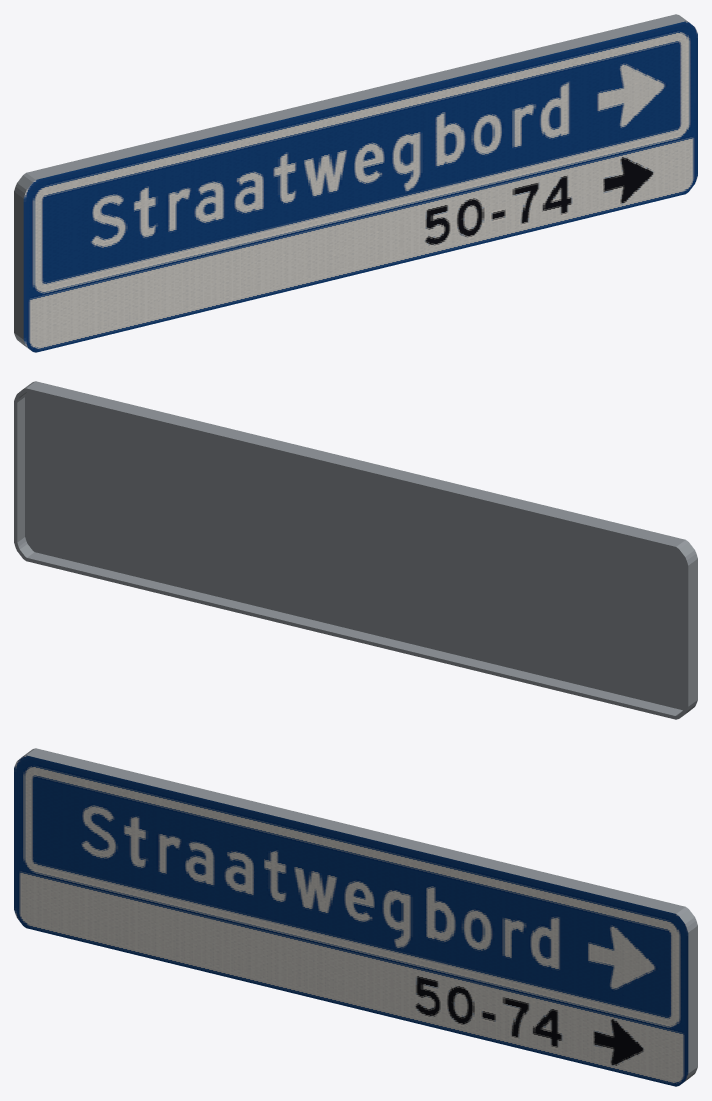
3 renders of one model, top to bottom at view 1: azimuth 30°, elevation 25°; view 2: azimuth 150°, elevation 25°; view 3: azimuth 330°, elevation 25°, orthographic.
Parts seen in each view (by area): view 1: cat_34e5b026c8c2b579; view 2: cat_34e5b026c8c2b579; view 3: cat_34e5b026c8c2b579.
Part boxes in pixels (bbox=[...]): cat_34e5b026c8c2b579: bbox=[14, 14, 697, 352]; cat_34e5b026c8c2b579: bbox=[14, 381, 697, 719]; cat_34e5b026c8c2b579: bbox=[14, 748, 697, 1086].
Size of the model in its own units: 0.6 by 0.015 by 0.147.
2 materials, 1 textured.
